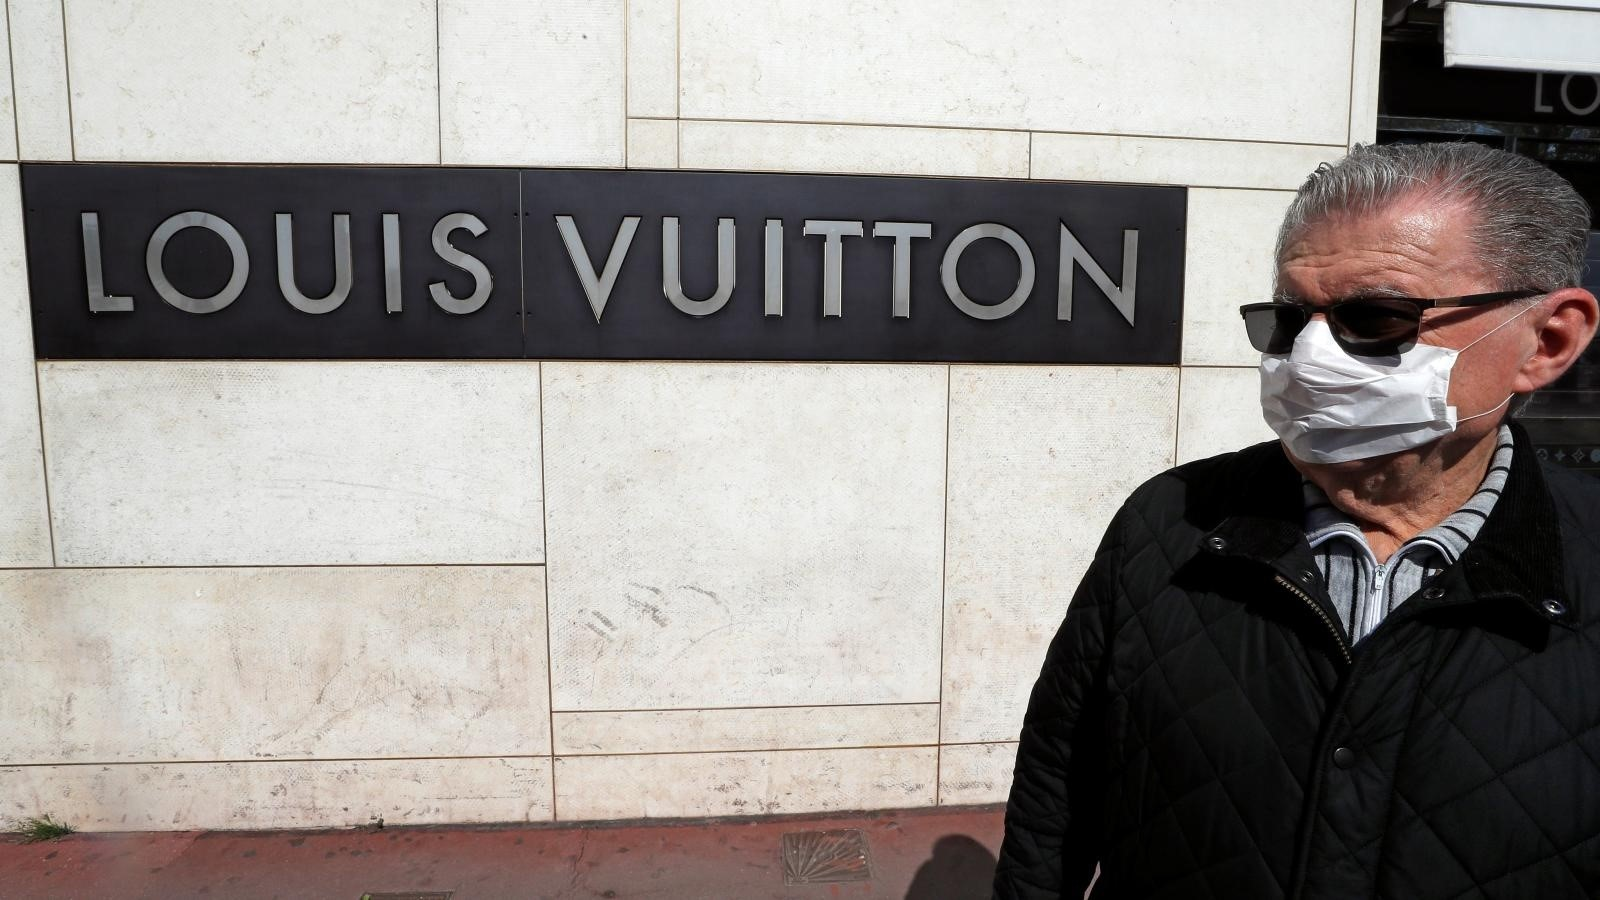face_with_mask: (1243, 150, 1593, 465)
